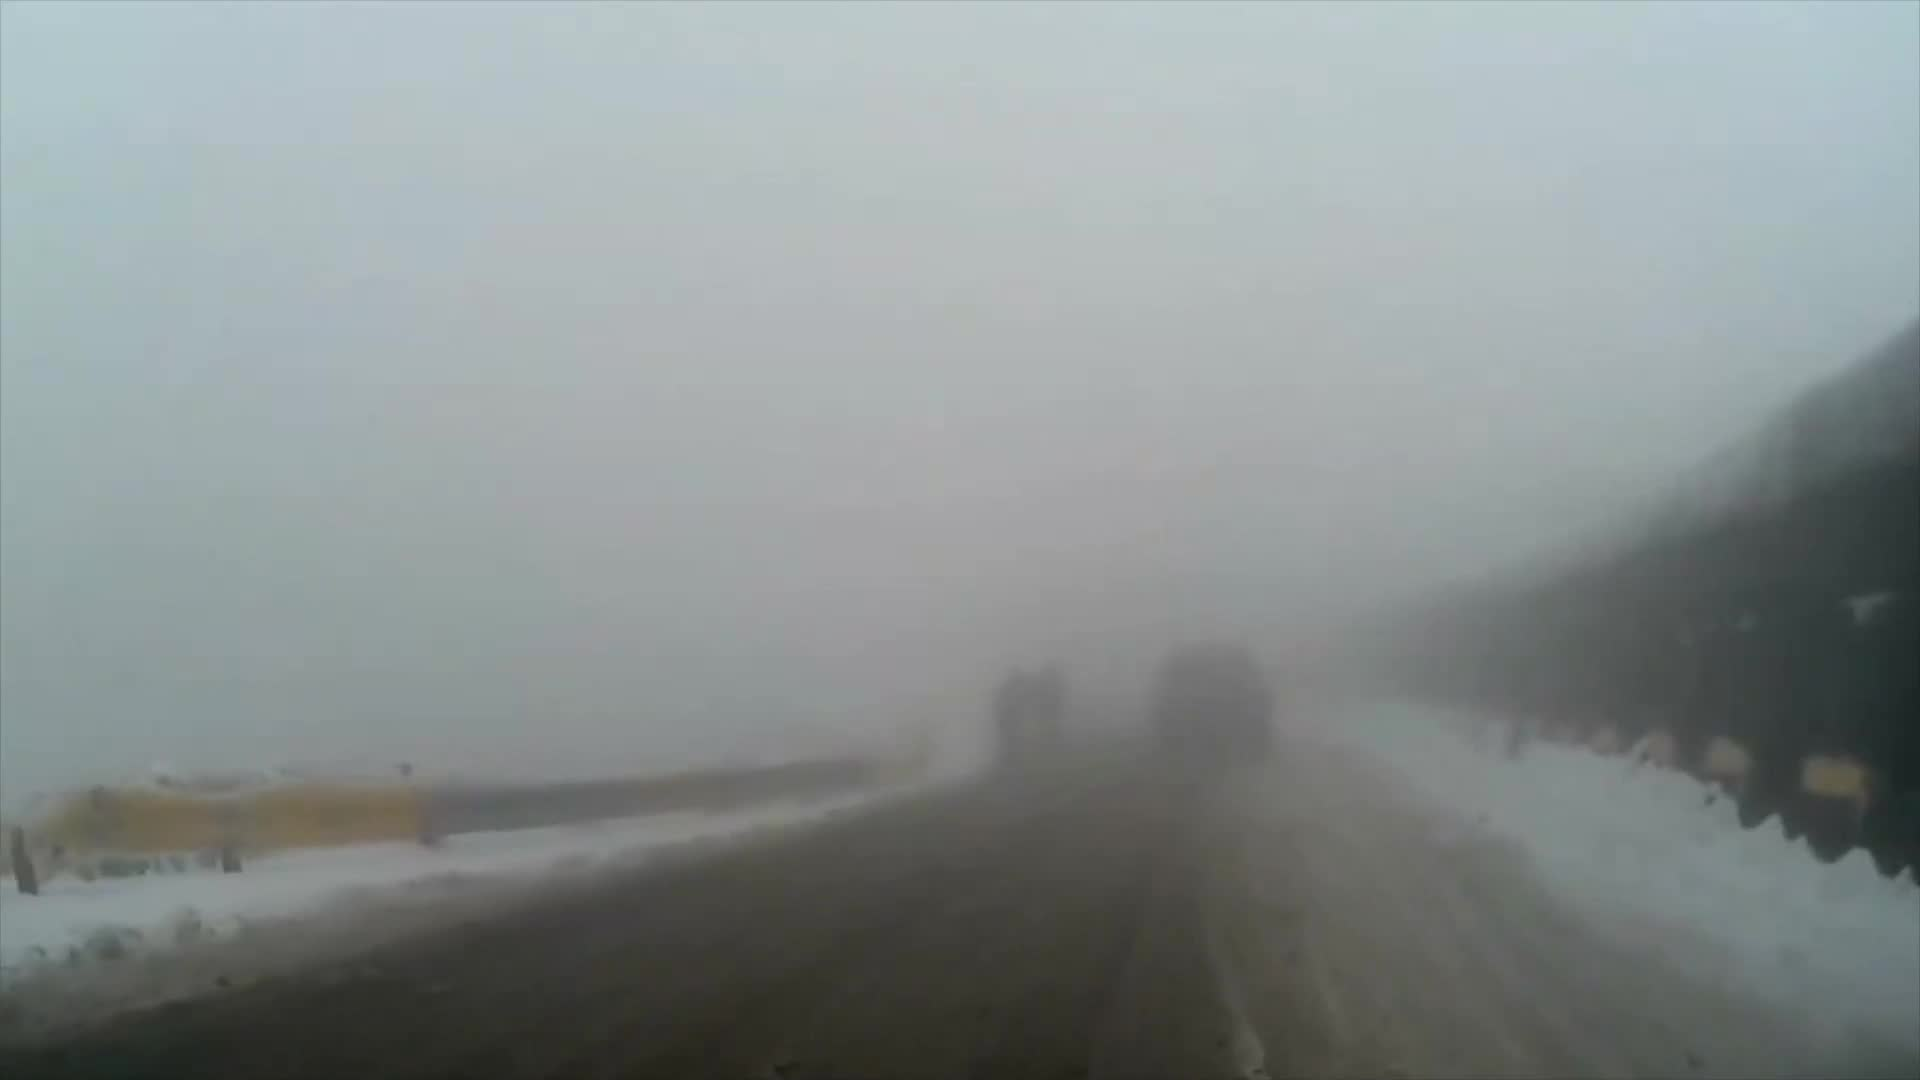pedestrian: (1026, 644, 1082, 769), (986, 663, 1037, 789)
vehicle: (1144, 639, 1272, 765)
